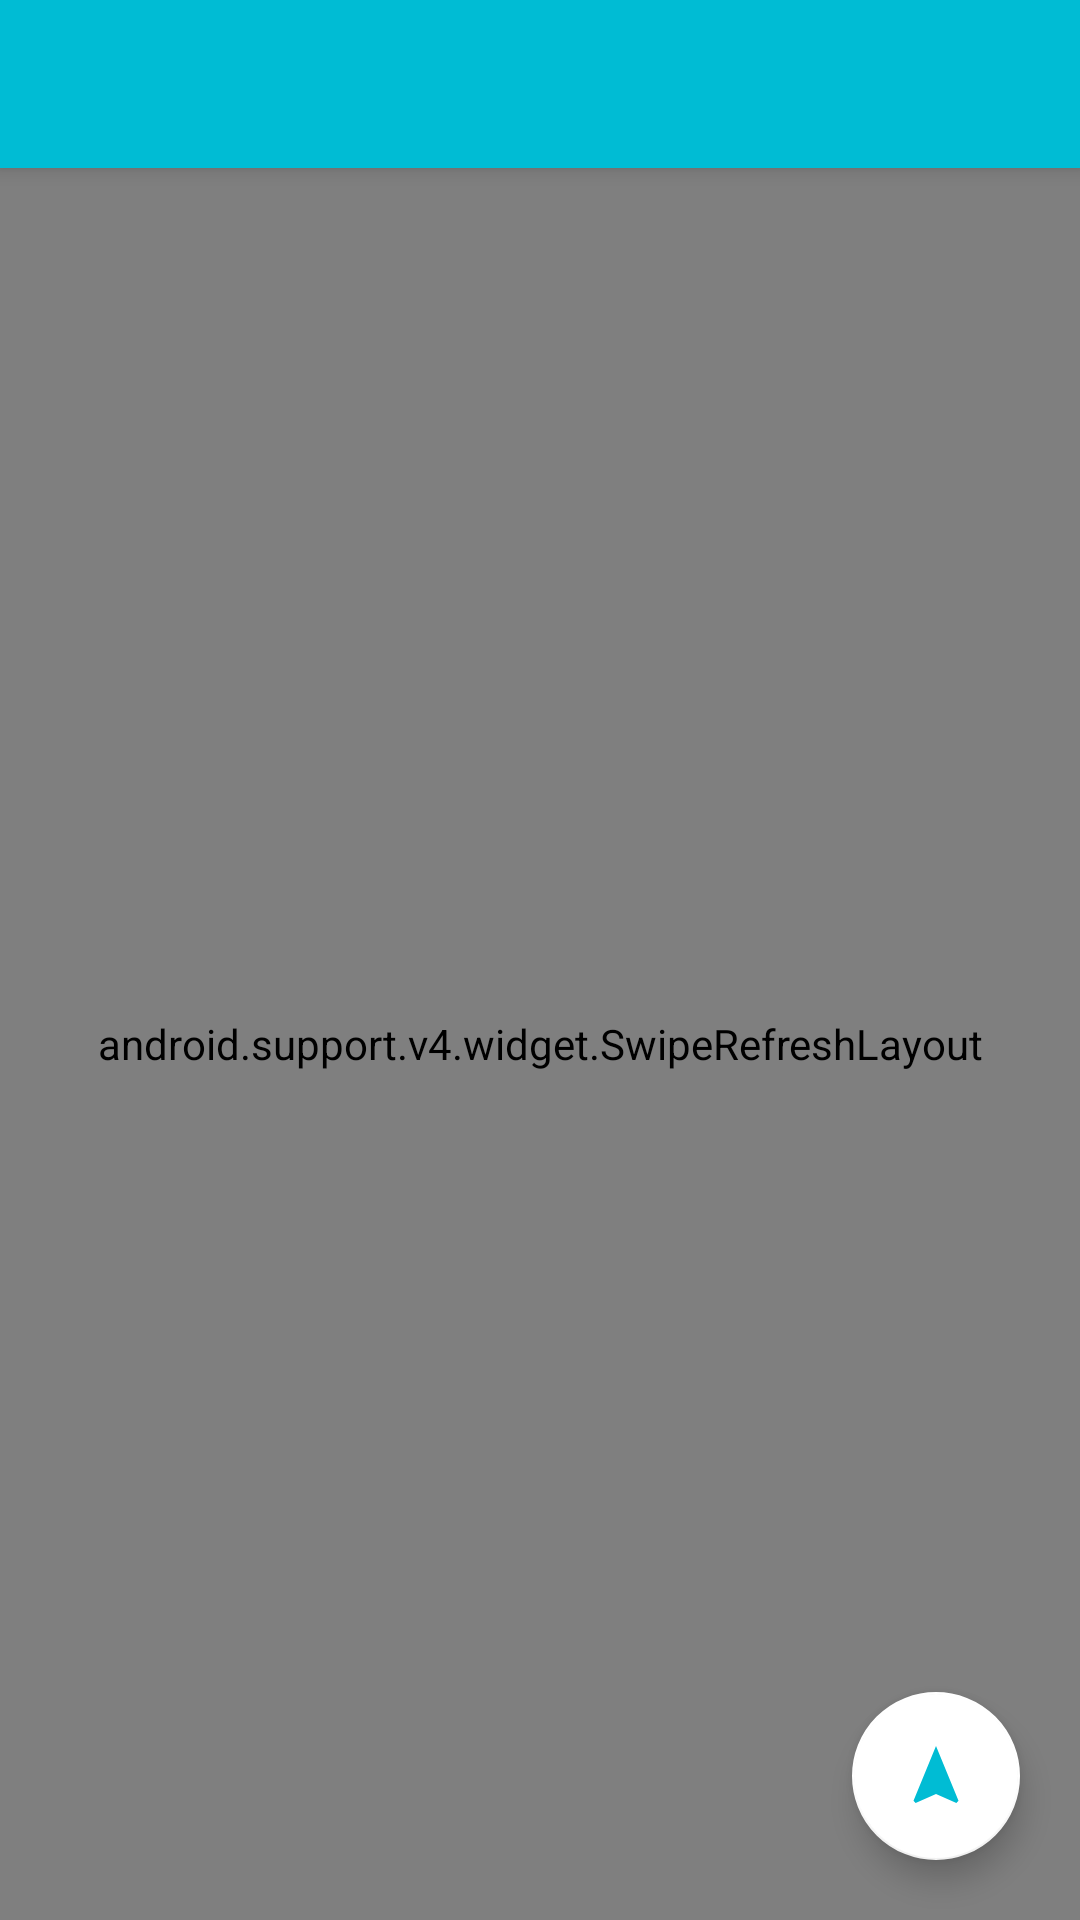

Point at icon controls on the screen. Image size 1080px×1920px, points as (x,y).
navigation: (936,1776)
